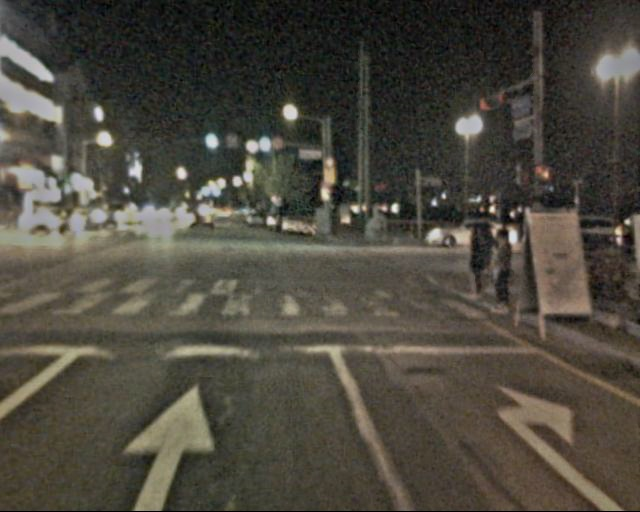person: (482, 227, 520, 316), (457, 222, 495, 303)
